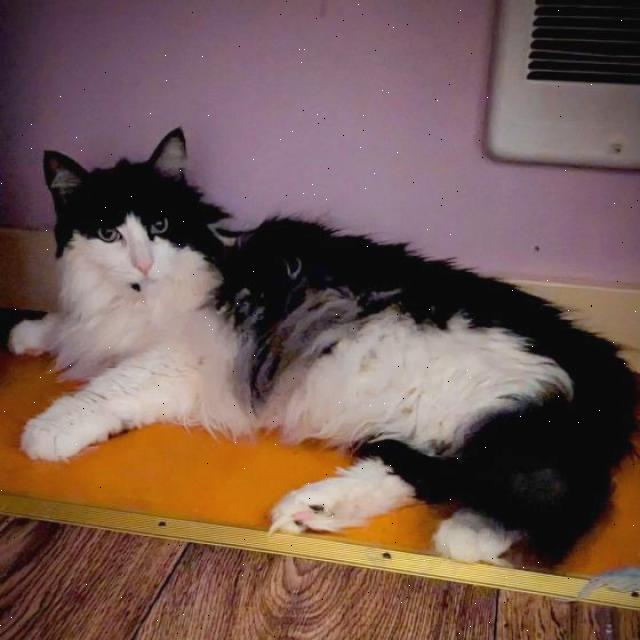domestic_long_hair_cat: (31, 117, 220, 361)
